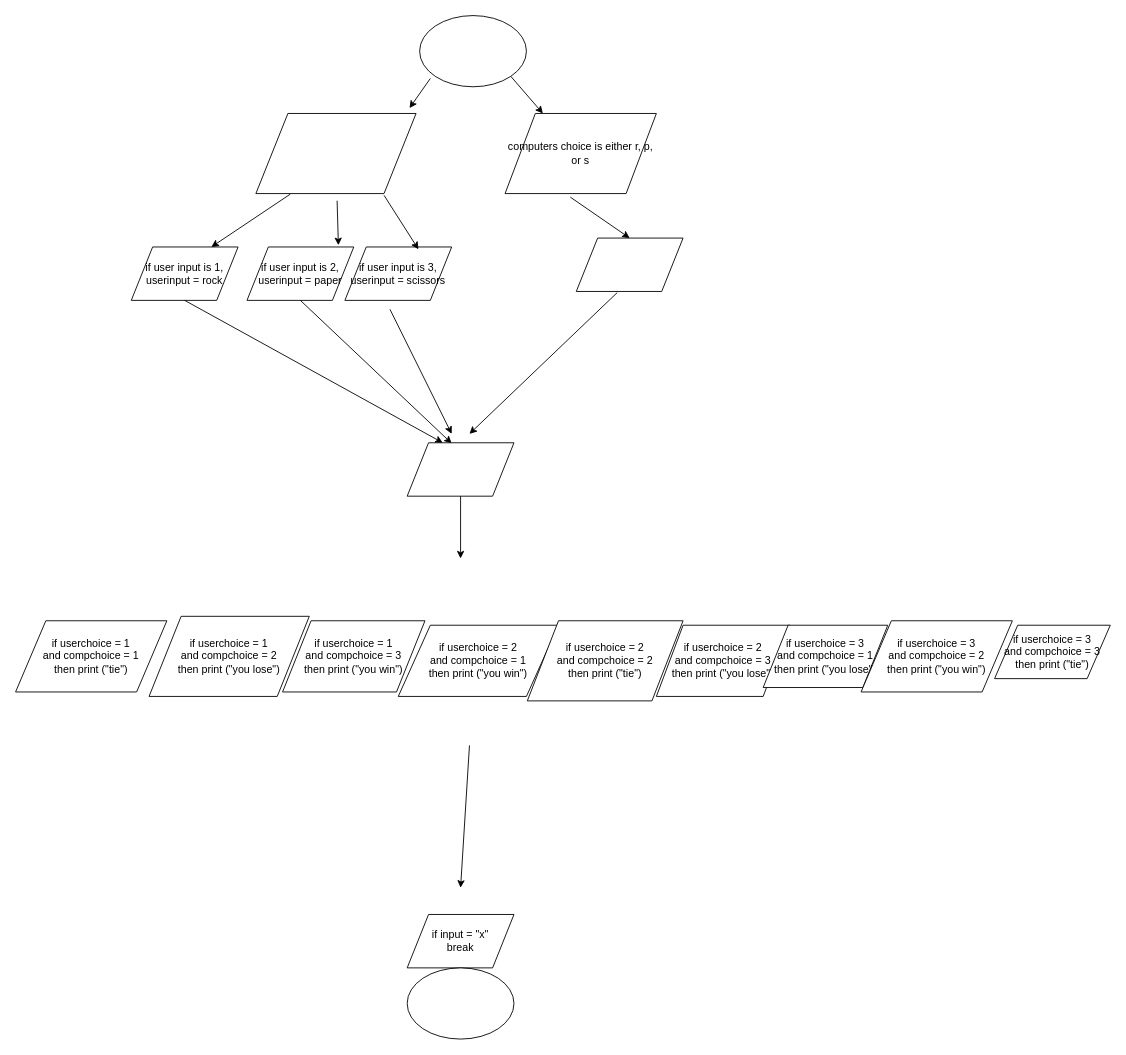
Some shapes in this 1126 by 1055 pixel diagram are drawn without their labels. The centre of each missing label's shape, as x and y in pixels:
"comp choice is randomly generated from 3 choices" belongs at point (629, 264).
"end" belongs at point (460, 1003).
"gAME STARTS" belongs at point (460, 469).
"start" belongs at point (472, 51).
"take input from user choices are r, p, s" belongs at point (335, 153).
